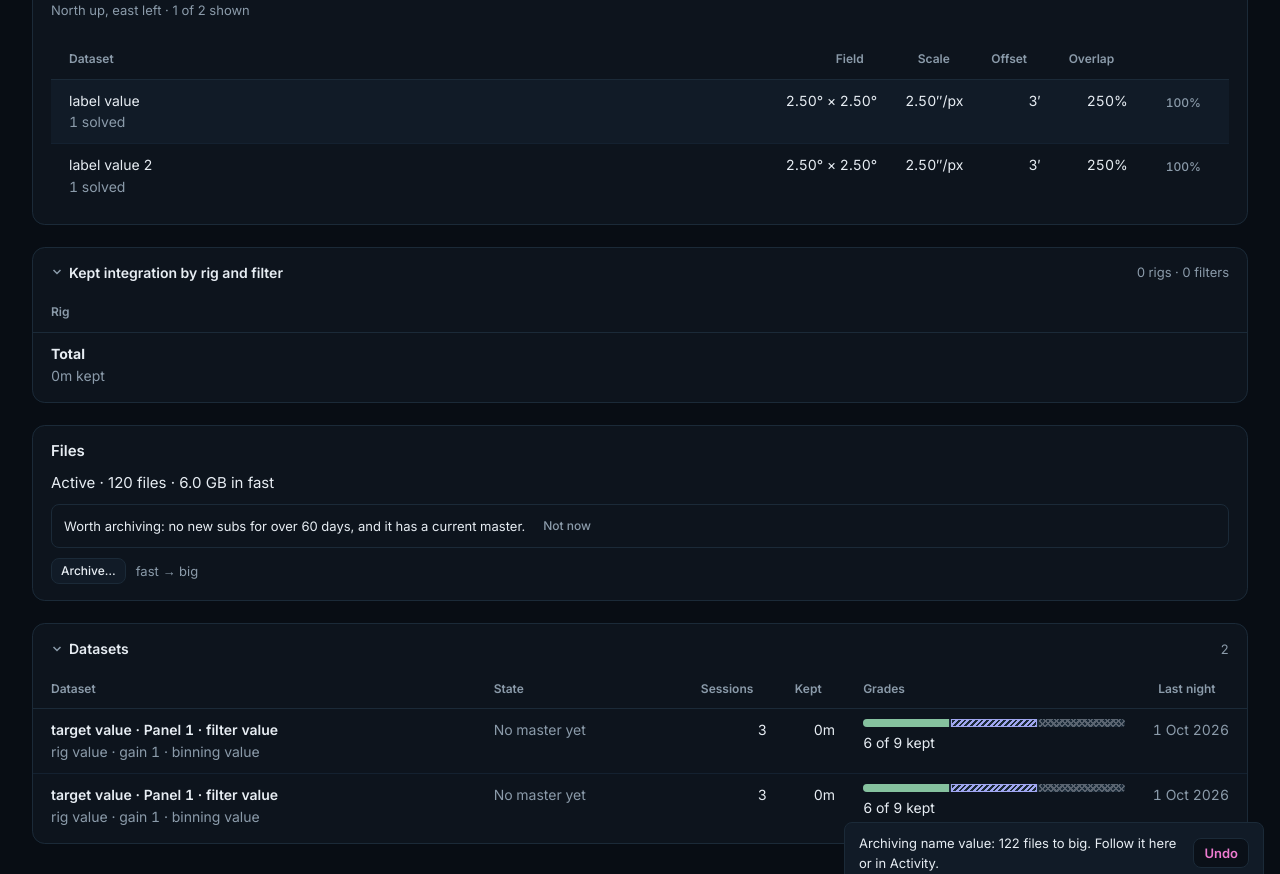
Test case: Collection → Files (spec 013) › cancelling the question moves nothing
(page scrolled)
Expected: the heading "Files" is shown, left=51, top=441, right=85, bottom=460
Step 1. Click the button "Archive…" → (88, 571), box left=51, top=558, right=126, bottom=584
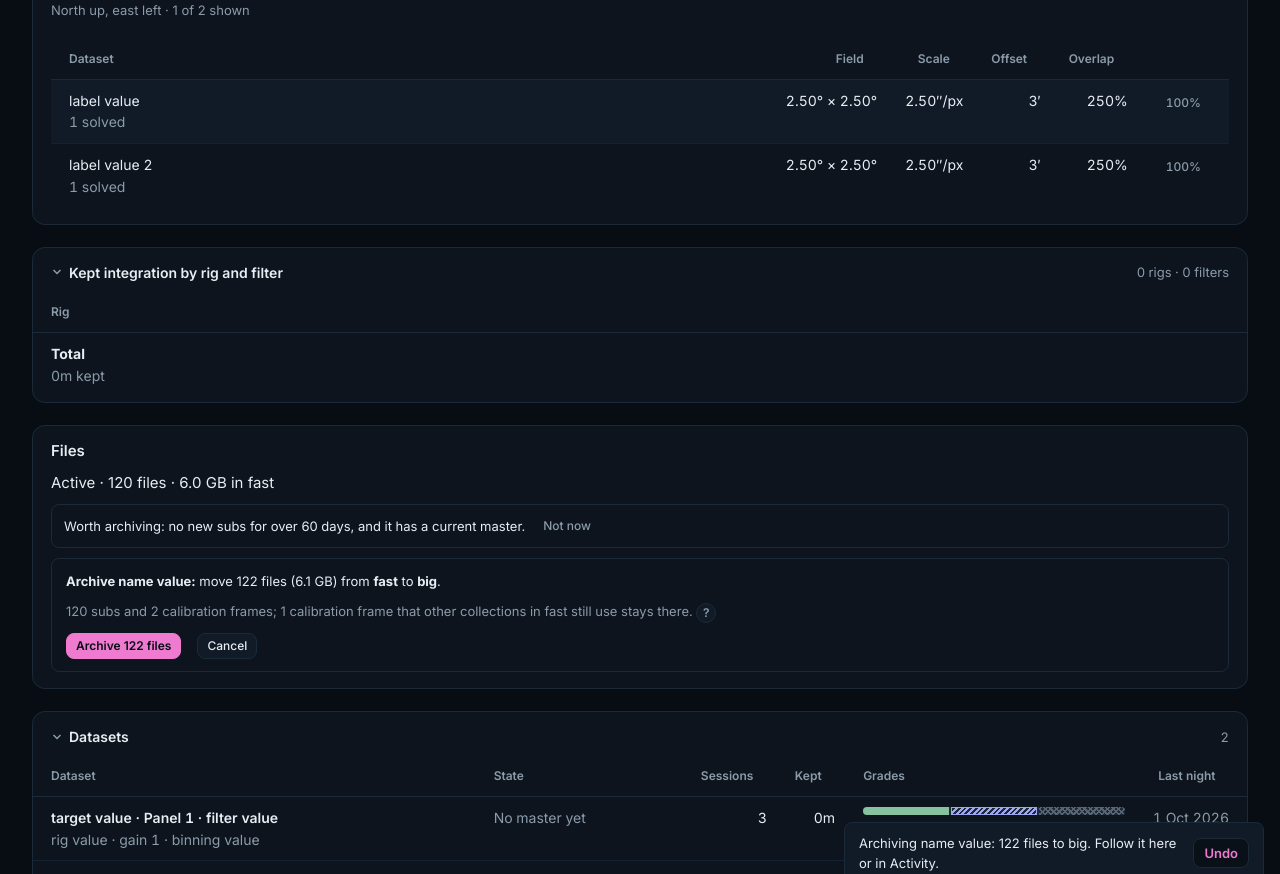
Step 2. Click the button "Cancel" → (227, 646), box left=197, top=633, right=257, bottom=659
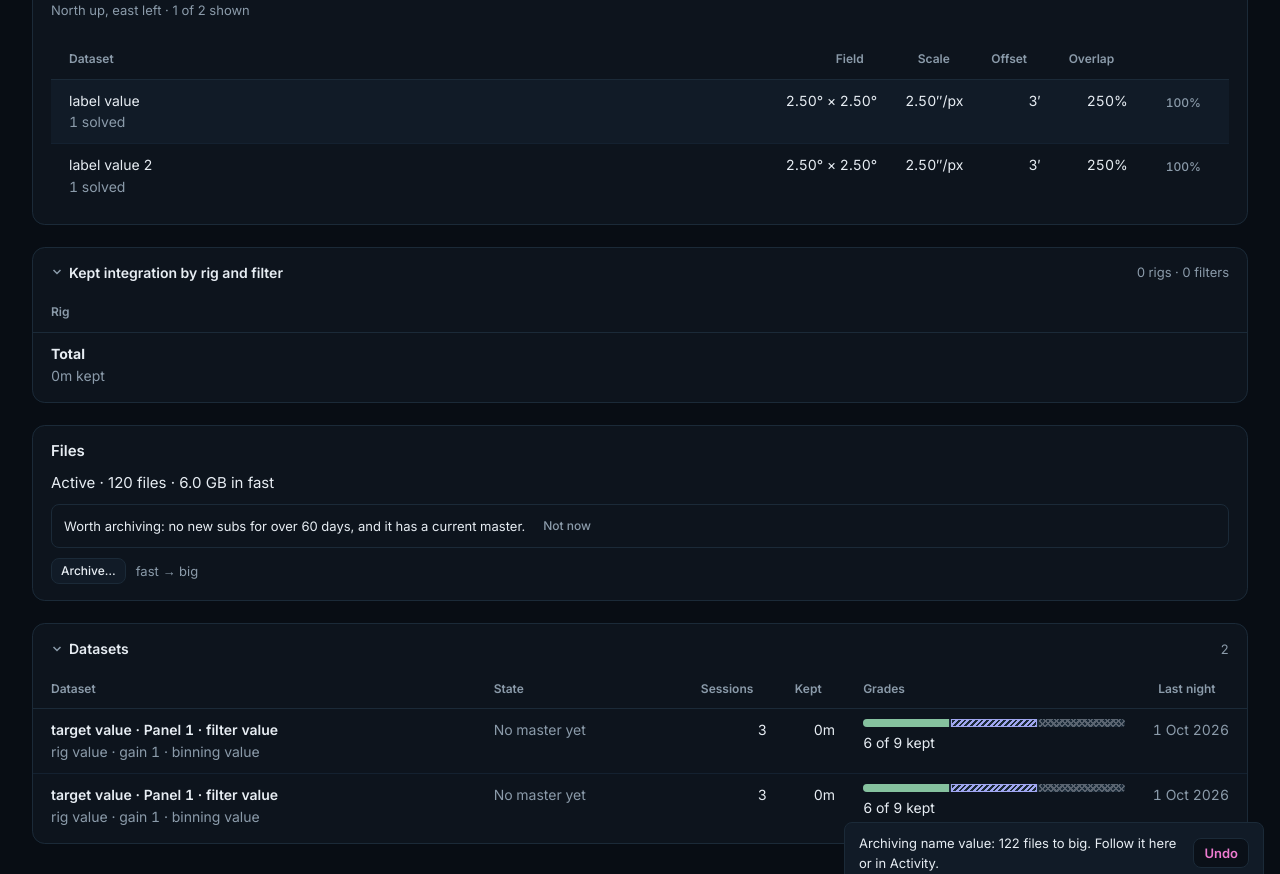
Expected: the button "Archive…" is shown, left=51, top=558, right=126, bottom=584
